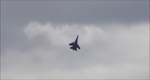maybay_muctieu: (67, 33, 82, 52)
